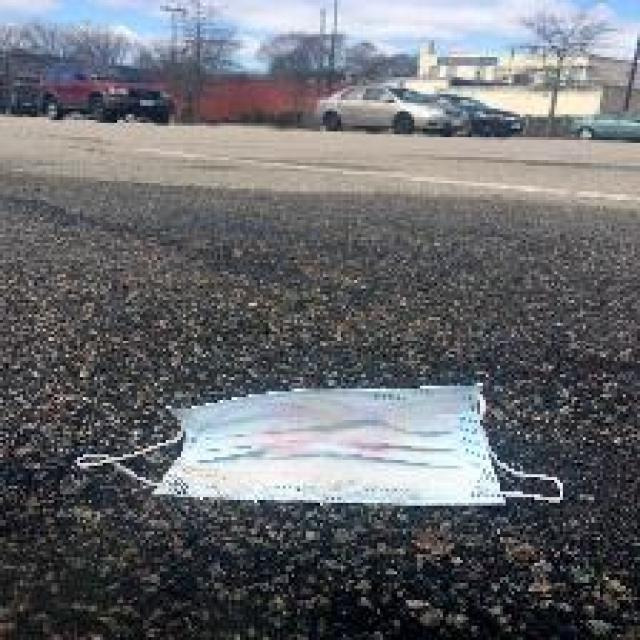Mask: (76, 351, 634, 572)
